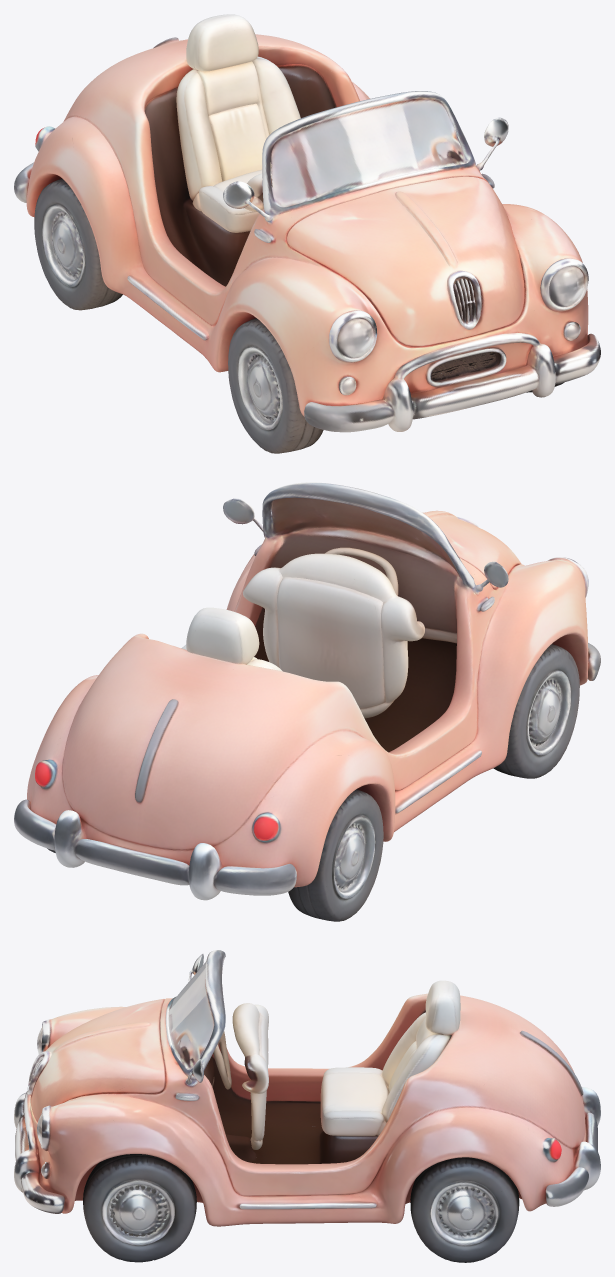
File: mochi-original.glb
3 renders of one model, top to bottom at view 1: azimuth 30°, elevation 25°; view 2: azimuth 150°, elevation 25°; view 3: azimuth 270°, elevation 25°, orthographic. The views are drawn at different scales.
Parts seen in each view (by area): view 1: model; view 2: model; view 3: model.
Part boxes in pixels (x1=…): model: x1=14, y1=14, x2=600, y2=453; model: x1=14, y1=482, x2=600, y2=921; model: x1=14, y1=950, x2=600, y2=1262.
Bounding box in the file's own units: 0.9441 × 0.8411 × 1.9.
Materials: 1 (1 with a texture image).
